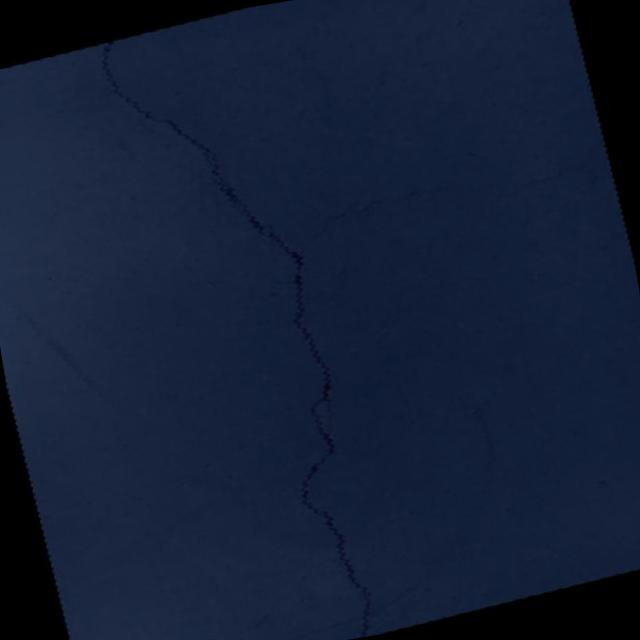crack: (94, 0, 577, 640), (471, 144, 615, 207), (91, 103, 120, 166)
